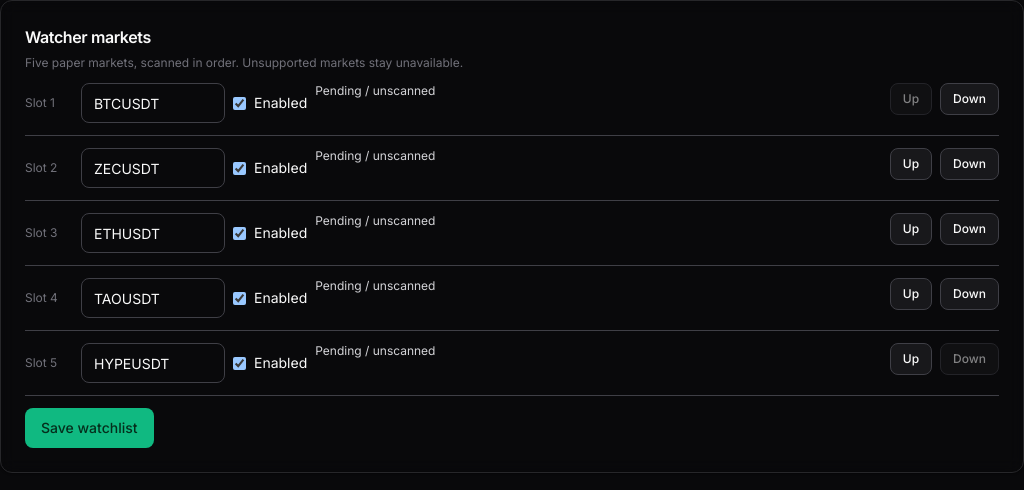
watchlist request coordination › ignores a pre-save poll after loading the new revision
Step 1. Replace the text in the field named "Symbol for slot 1" with "SOLUSDT" → [153, 103], box [81, 83, 225, 123]
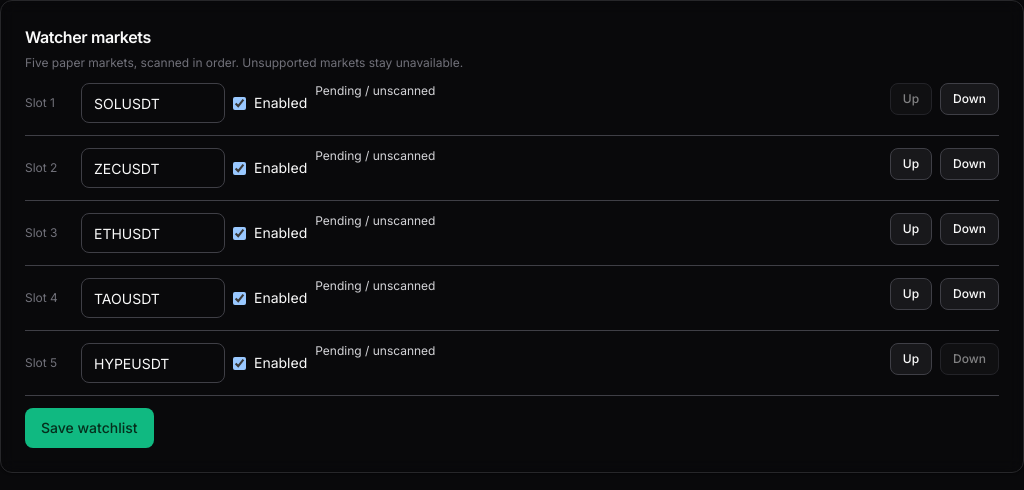
Step 2. Click the button with test id "watchlist-save" → [89, 428], box [25, 408, 154, 448]
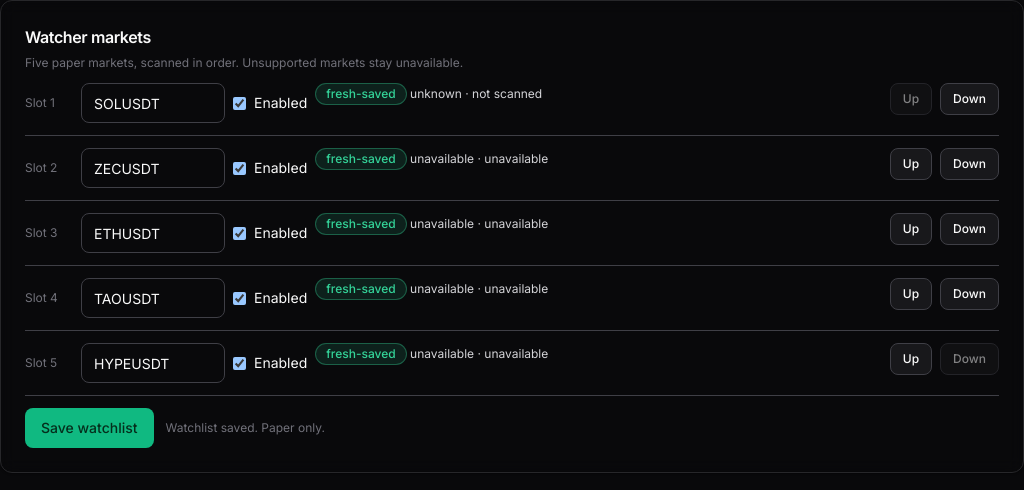
Result: the element with test id "watchlist-status-1" shows "fresh-saved" at [326, 86, 396, 101]
